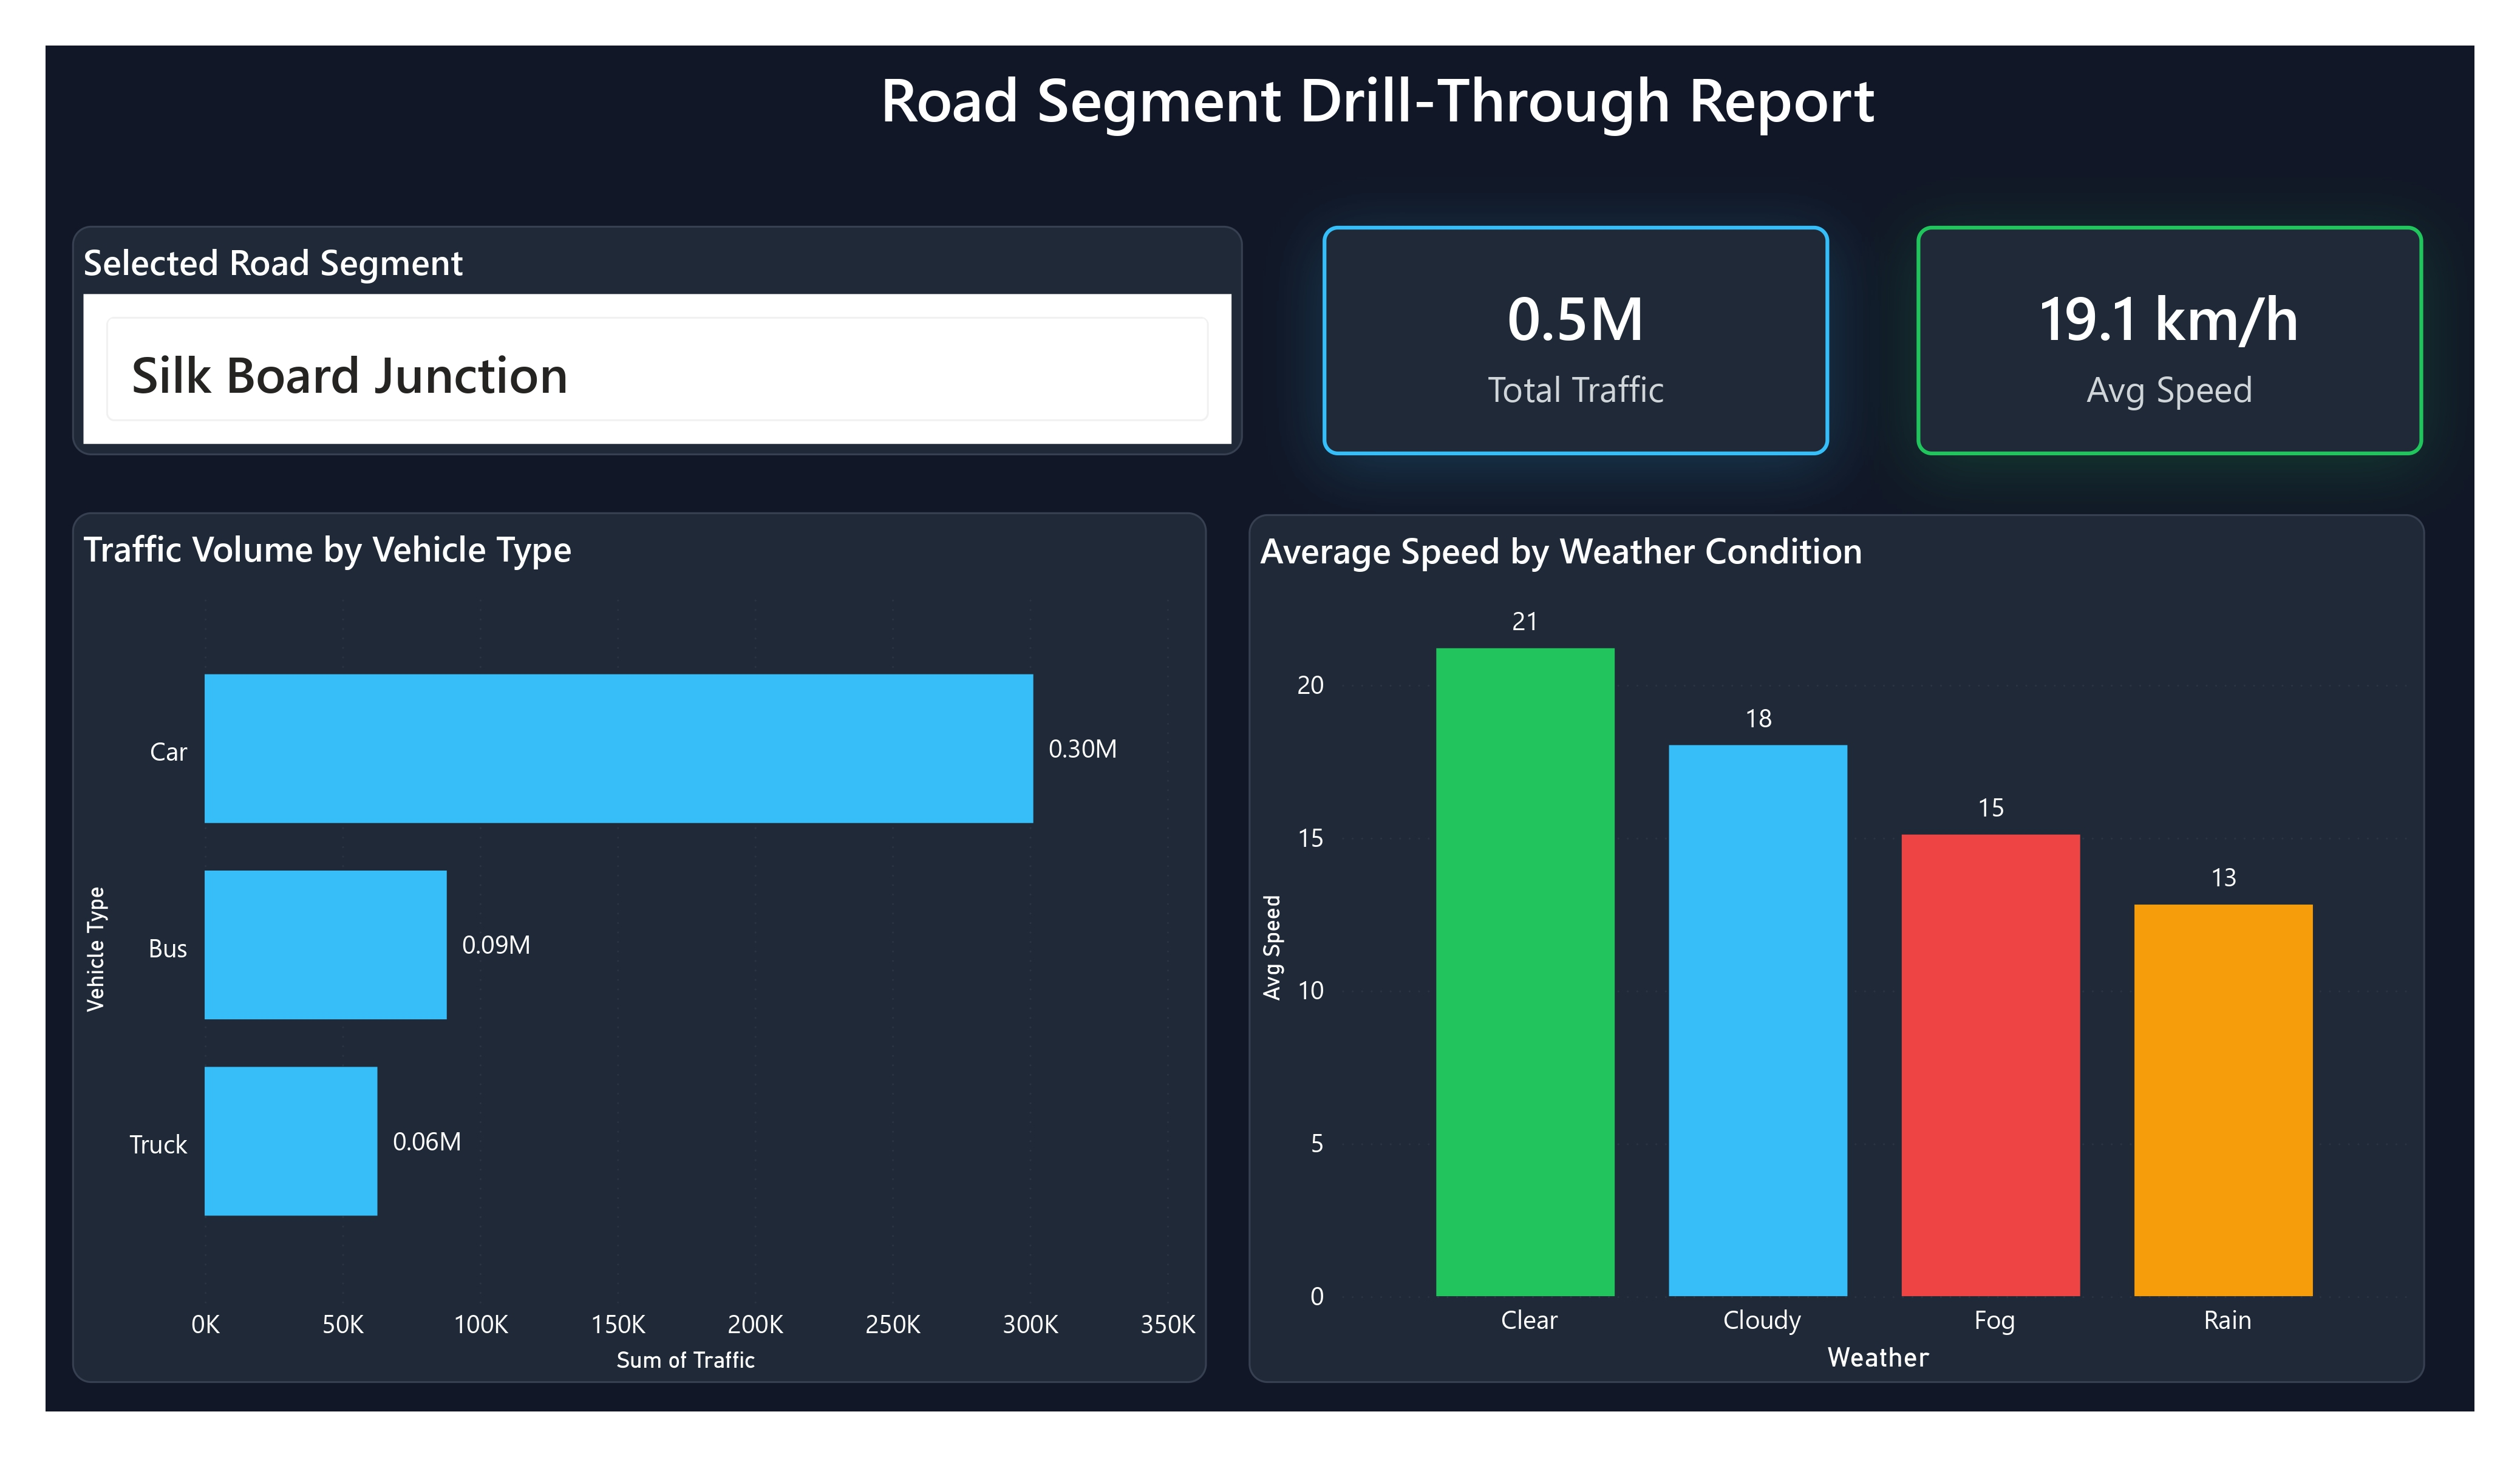

Layout of this report page (visuals, bound fields, positions):
{"tool":"powerbi","page":{"name":"Road Segment Details","canvas":[1280,720],"ordinal":4},"visuals":[{"type":"textbox","box":[321.5,0,761.8,94.6],"z":0},{"type":"card","fields":{"Values":["Traffic_Data.Total Traffic"]},"box":[672.7,94.6,267.4,121.6],"z":1000},{"type":"card","fields":{"Values":["Traffic_Data.Avg Speed KPI"]},"box":[986,94.6,267.4,121.6],"z":2000},{"type":"clusteredBarChart","title":"Traffic Volume by Vehicle Type","fields":{"Category":["Traffic_Data.Vehicle_Type"],"Y":["Sum(Traffic_Data.Traffic_Volume)"]},"box":[14,245.7,598.3,459.6],"z":3000},{"type":"clusteredColumnChart","title":"Average Speed by Weather Condition","fields":{"Category":["Traffic_Data.Weather"],"Y":["Traffic_Data.Avg Speed"]},"box":[634,247,620,458.3],"z":4000},{"type":"cardVisual","title":"Selected Road Segment","fields":{"Data":["Traffic_Data.Selected Road Segment"]},"box":[13.5,94.6,617.3,121.6],"z":5000}]}

Visuals, with their boxes on the page's 1280x720 design canvas (x1, y1, x2, y2). These are canvas units, not pixel positions in the 2520x1457 screenshot, which may show the page scaled, cropped or inside an application window:
textbox: <box>322,0,1083,95</box>
card - Traffic_Data.Total Traffic: <box>673,95,940,216</box>
card - Traffic_Data.Avg Speed KPI: <box>986,95,1253,216</box>
"Traffic Volume by Vehicle Type" clusteredBarChart: <box>14,246,612,705</box>
"Average Speed by Weather Condition" clusteredColumnChart: <box>634,247,1254,705</box>
"Selected Road Segment" cardVisual: <box>14,95,631,216</box>
